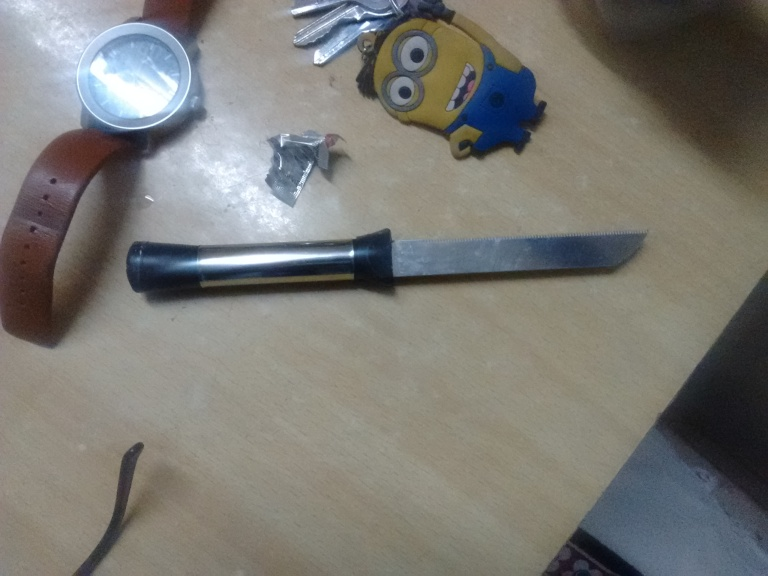knife: (123, 227, 651, 295)
